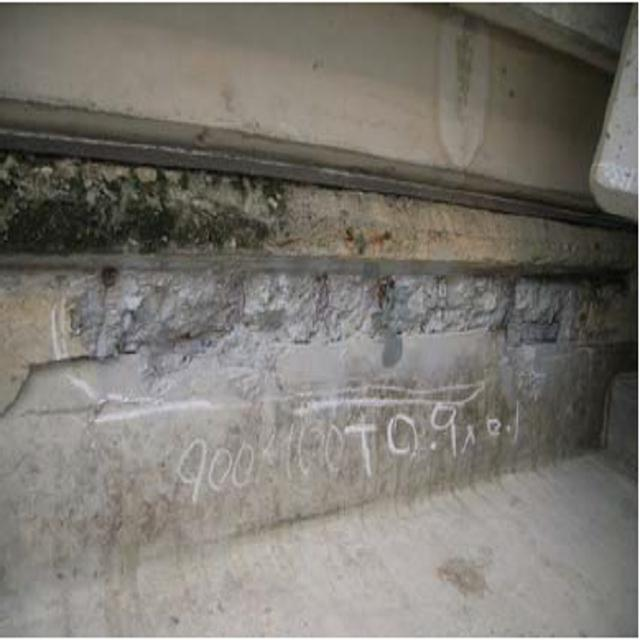spalling: (64, 254, 597, 399)
